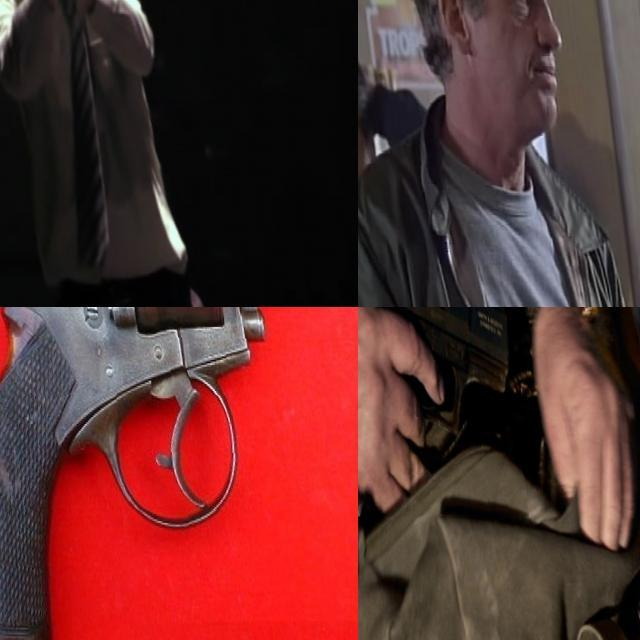gun-knife-thesis - v11 Yolov5 augmented: (0, 307, 358, 640), (358, 307, 517, 518), (13, 0, 68, 64)
